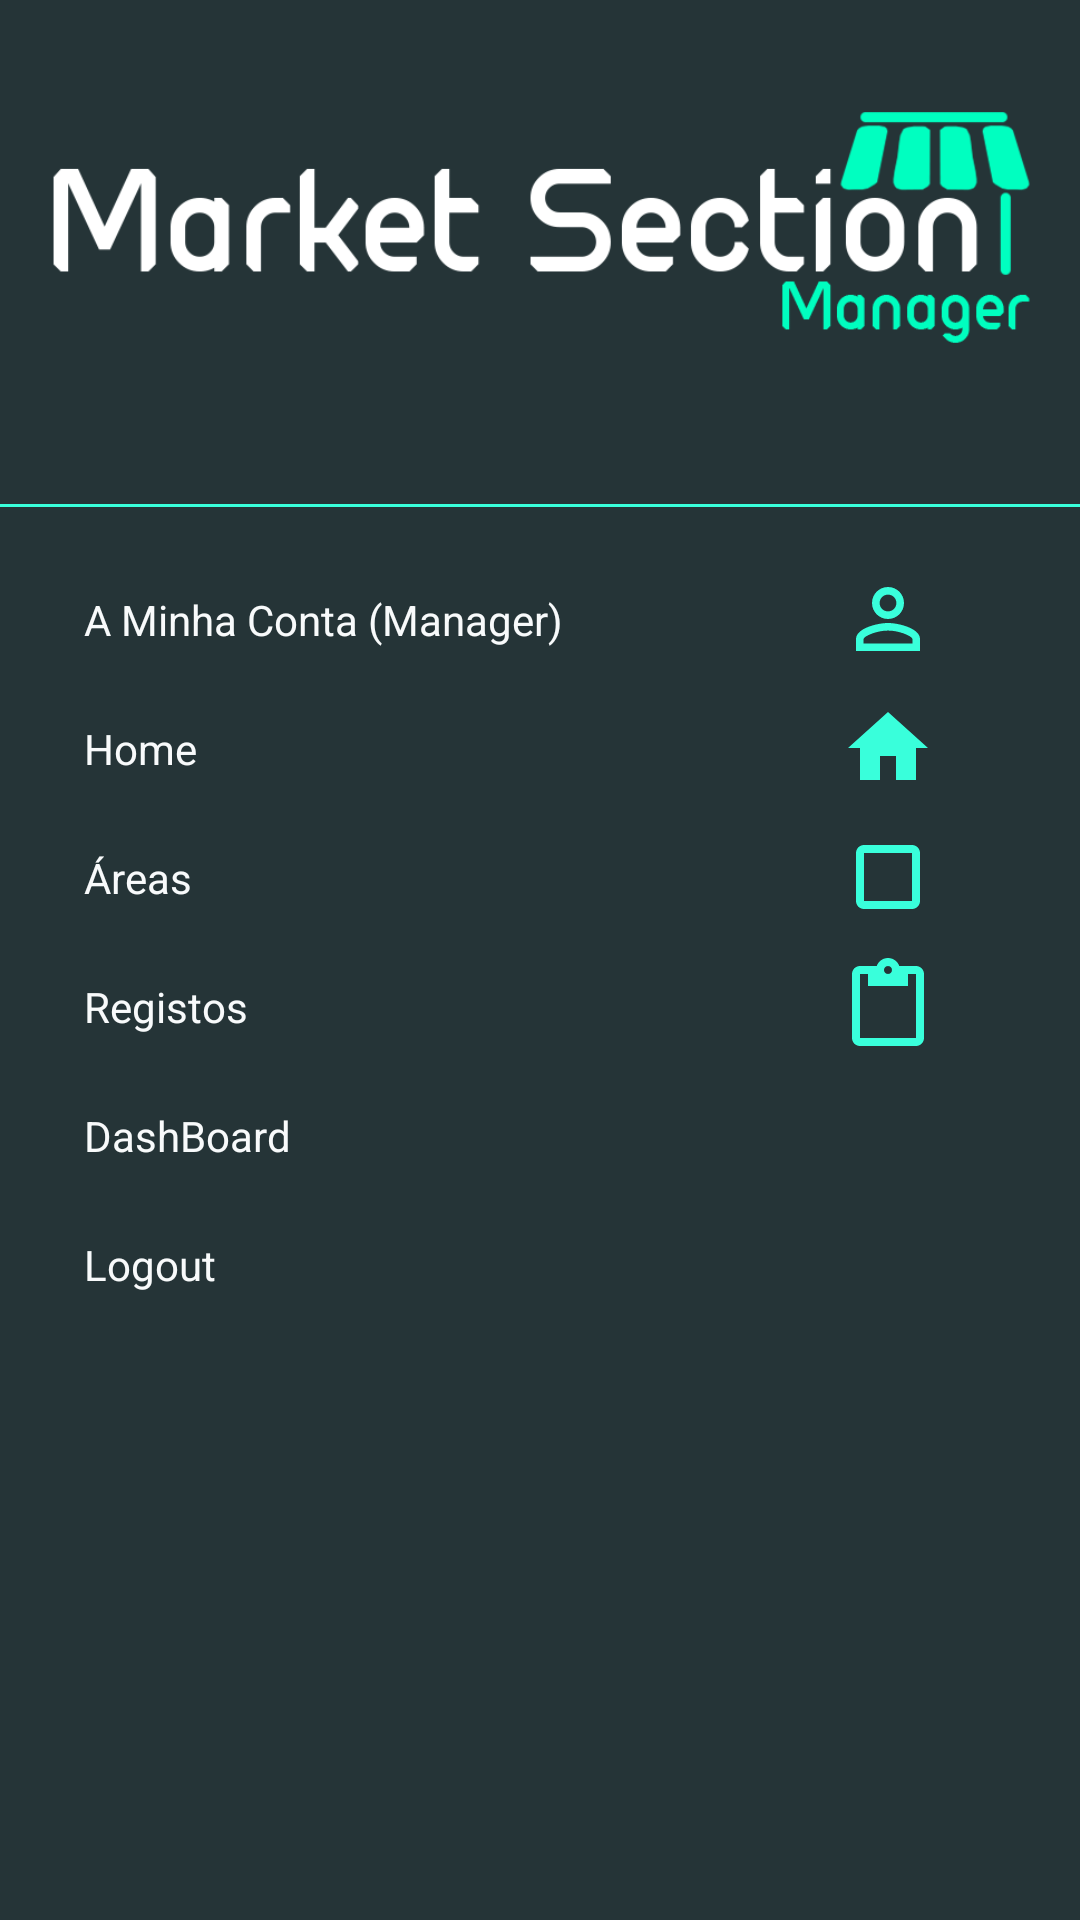

Icon click points for this 1080w x 1920h phone screenshot, format point (x, y):
content paste: point (888, 1002)
user: point (888, 619)
